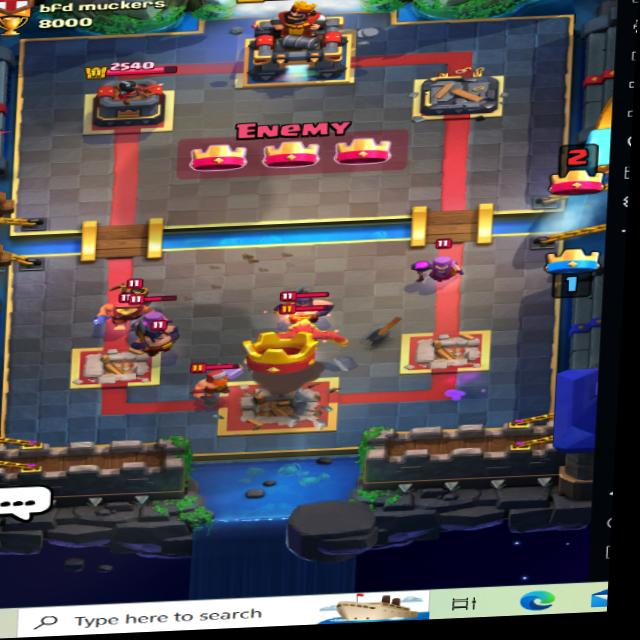executioner: (133, 317, 196, 360), (271, 287, 342, 322)
fisherman: (84, 282, 166, 334)
little-prince: (110, 265, 163, 310)
lumberjack: (185, 359, 250, 394)
mother-witch: (413, 233, 474, 291), (116, 296, 181, 341)
phoenix: (246, 300, 348, 359)
